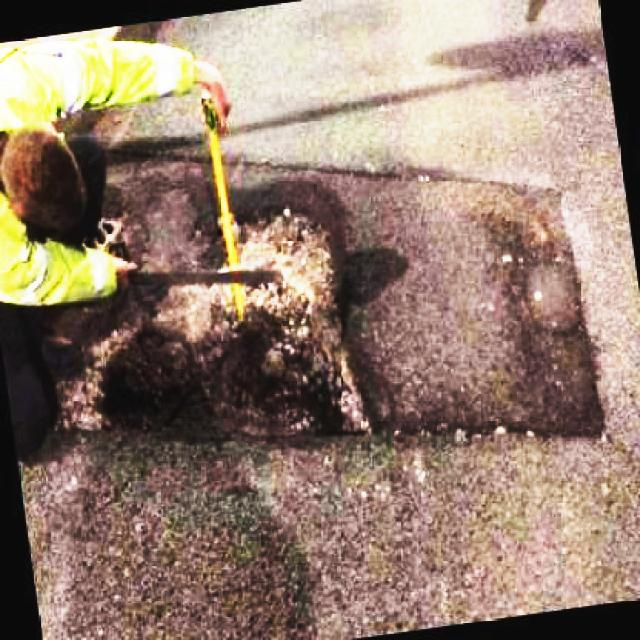pothole: (51, 208, 380, 435)
